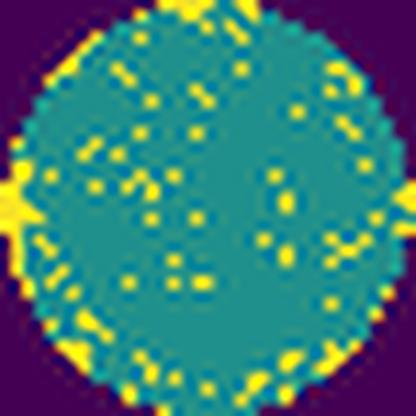Edge-Loc: (0, 155, 47, 302), (153, 0, 223, 27), (55, 341, 95, 379), (383, 177, 416, 219)
